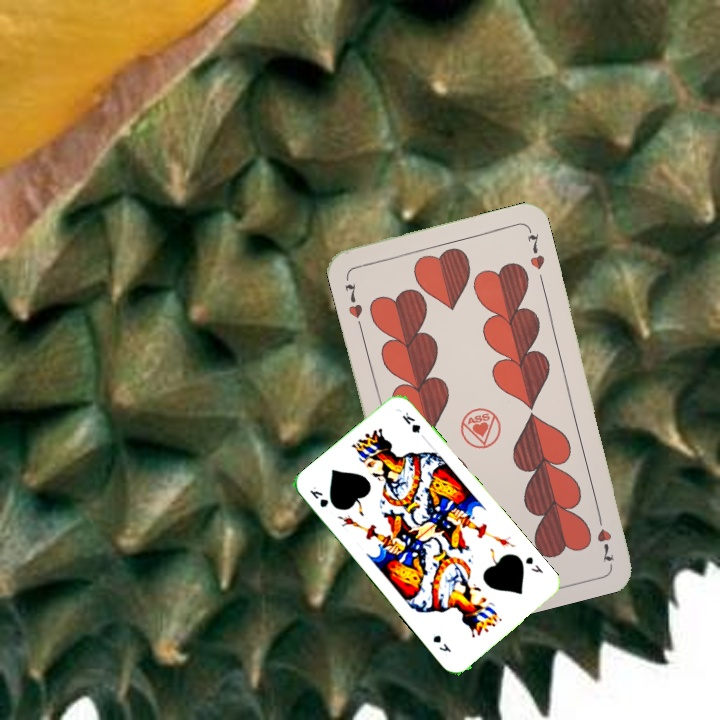GK: (305, 482, 331, 510), (521, 553, 546, 576)
H7: (593, 508, 617, 565), (340, 279, 365, 321)
